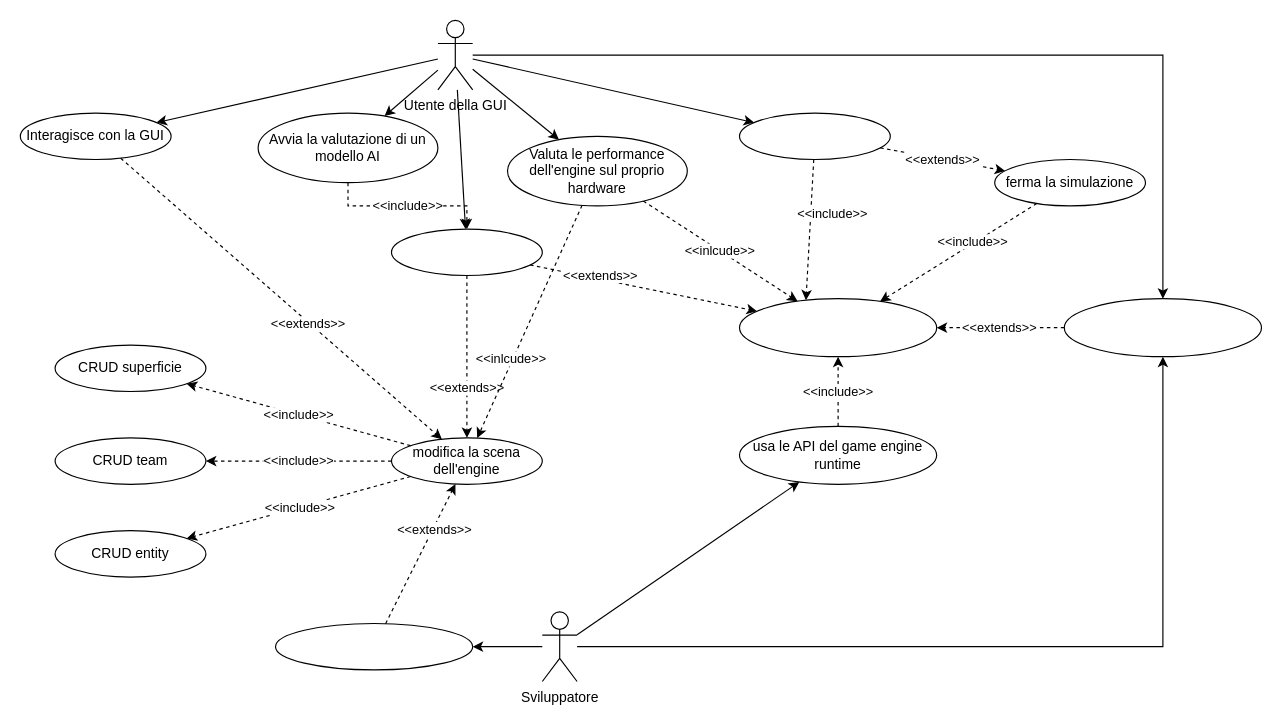
This 1282x726 diagram has some shape labels left out. The shapes that lost their labels are listed below. From the top down, each one's centre as x and y in pixels, then its label:
the point at 814,136: Avvia la simulazione
the point at 466,252: Interagisce con l'agente AI
the point at 837,327: avvia o ferma la simulazione della fisica
the point at 1162,327: Selezionare quali regole fisiche applicare
the point at 373,646: usa le API della scena
